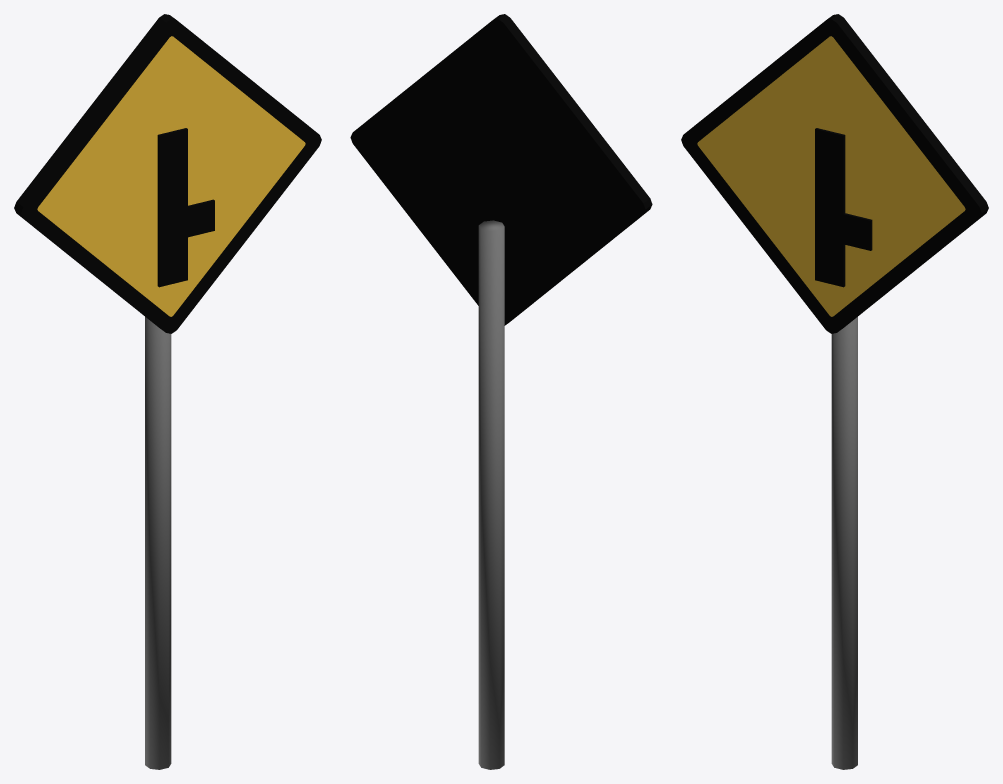
File: Prop_StreetSign_Side.fbx
3 views of the same model, side by side, from view 1: azimuth 30°, elevation 25°; view 2: azimuth 150°, elevation 25°; view 3: azimuth 330°, elevation 25° (orthographic).
Parts seen in each view (by area): view 1: Prop_StreetSign_Side; view 2: Prop_StreetSign_Side; view 3: Prop_StreetSign_Side.
Boxes of the visible parts, bbox=[...] form: Prop_StreetSign_Side: bbox=[14, 14, 321, 769]; Prop_StreetSign_Side: bbox=[350, 14, 652, 769]; Prop_StreetSign_Side: bbox=[681, 14, 988, 769].
Size of the model in its own units: 190 by 455 by 23.54.
